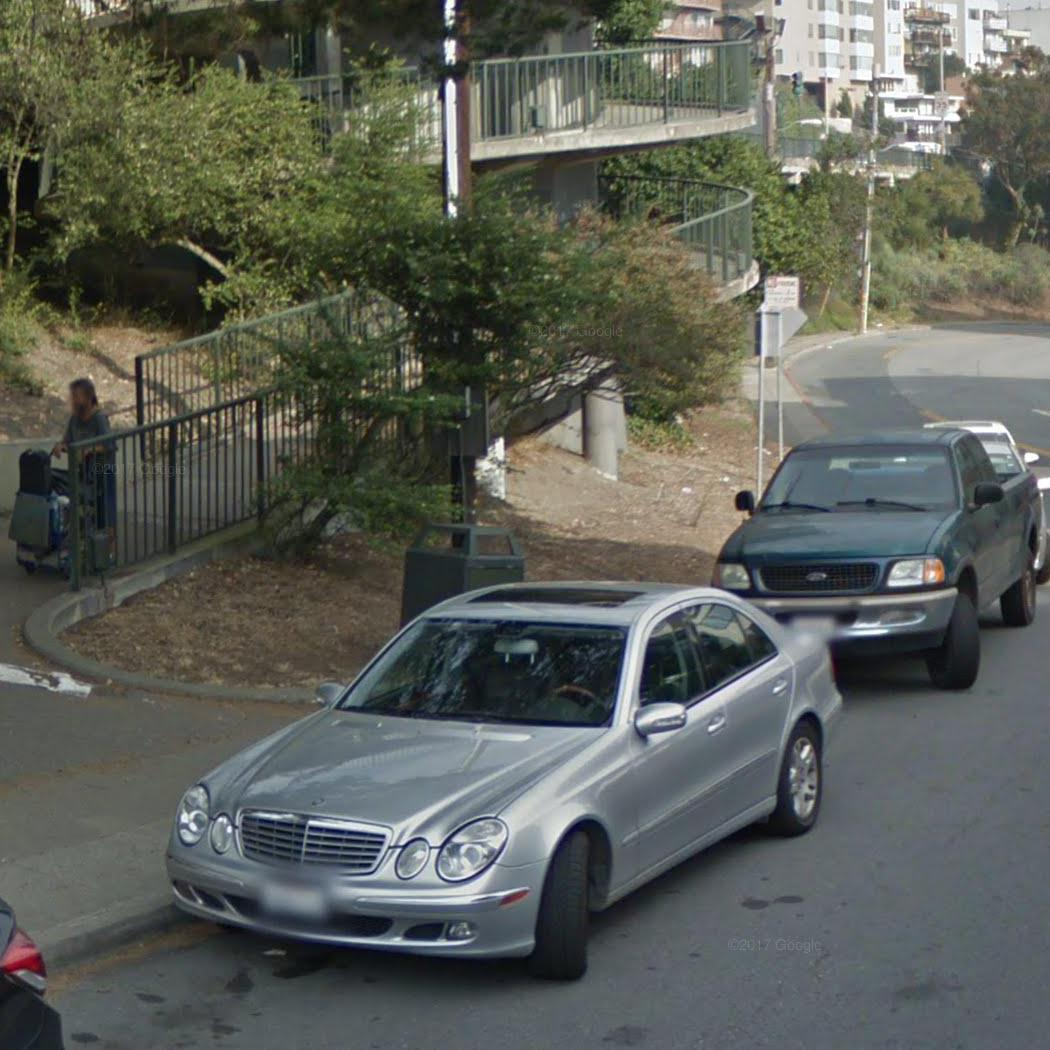No Parking: (762, 276, 801, 311)
